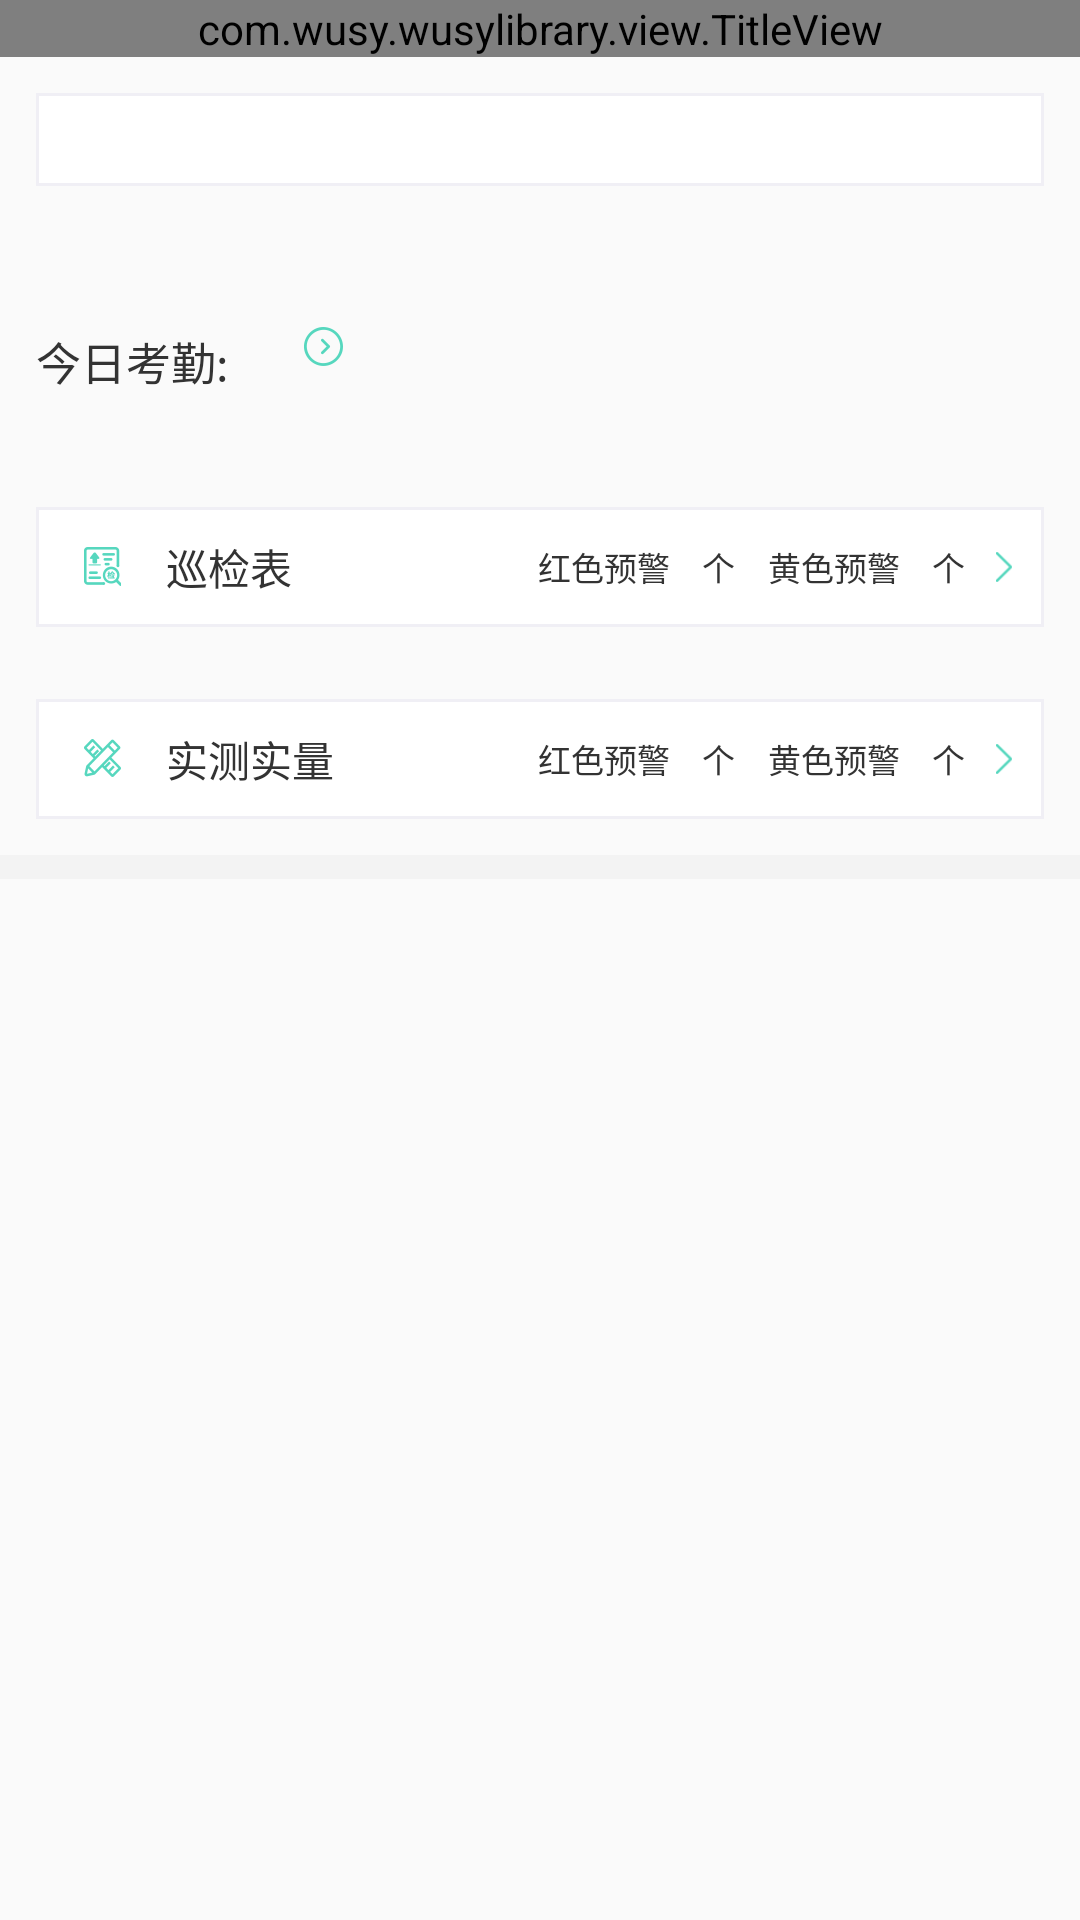

Point at icon controls on the screen. Image size 1080px x 1920px, points as [x,y].
gengduo: [323,346]
